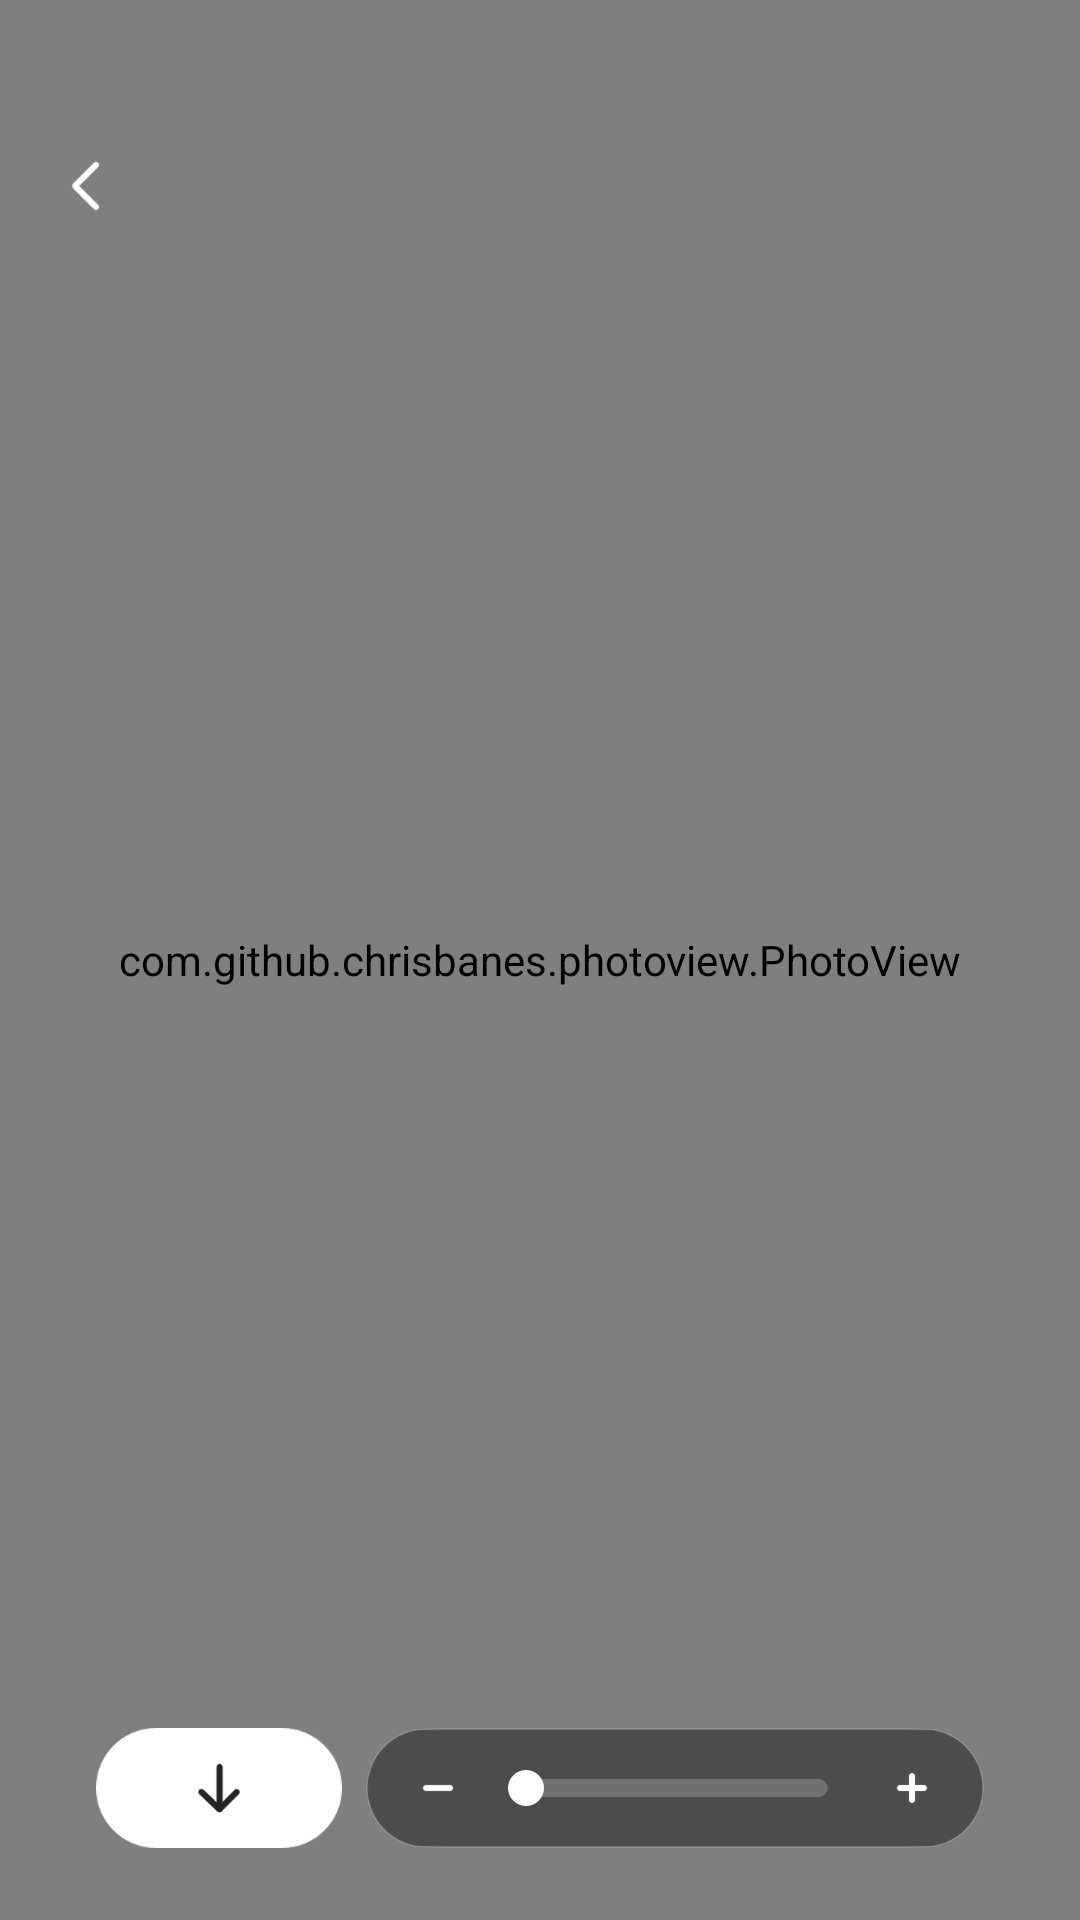

Named icons in this screenshot (1080*1920) and their bounding boxes, (x1, y1, x2, y2):
back: (72, 162, 99, 210)
